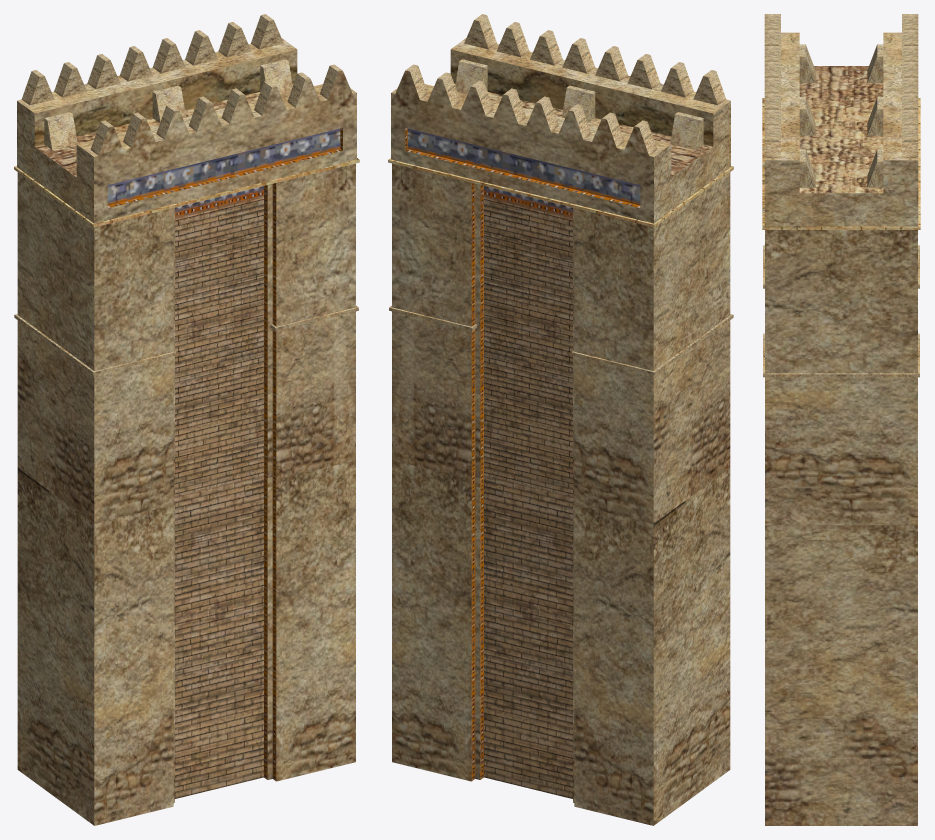
The model's file is pers_wall_short.glb.
The picture shows the model from 3 angles, left to right: view 1: azimuth 30°, elevation 25°; view 2: azimuth 150°, elevation 25°; view 3: azimuth 270°, elevation 25°; orthographic projection.
Size of the model in its own units: 12.33 by 30.75 by 6.37.
1 material, 1 textured.
